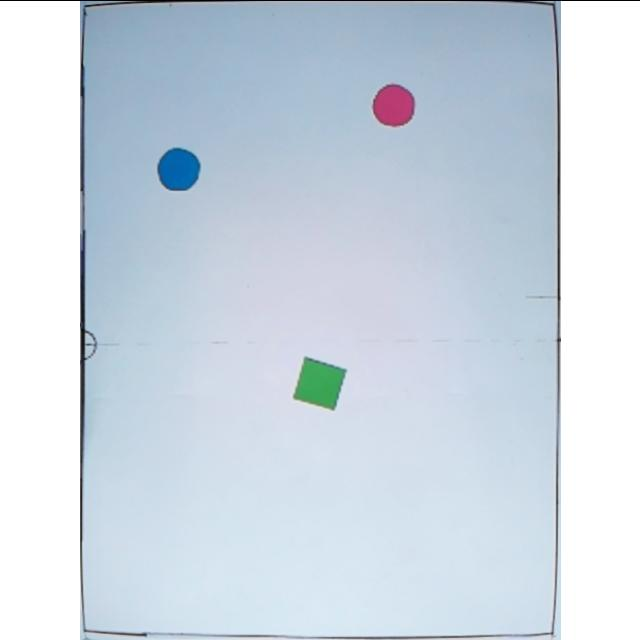blueCircle: (152, 145, 202, 193)
greenSquare: (289, 356, 347, 412)
pinkCircle: (368, 82, 414, 126)
